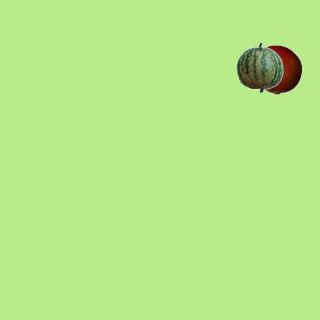Apple Braeburn: (251, 44, 301, 94)
Watermelon: (234, 42, 284, 92)
